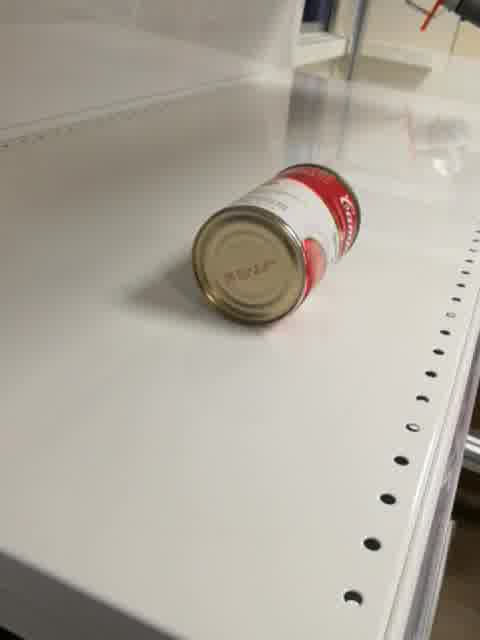tomatosoup: (188, 161, 364, 328)
